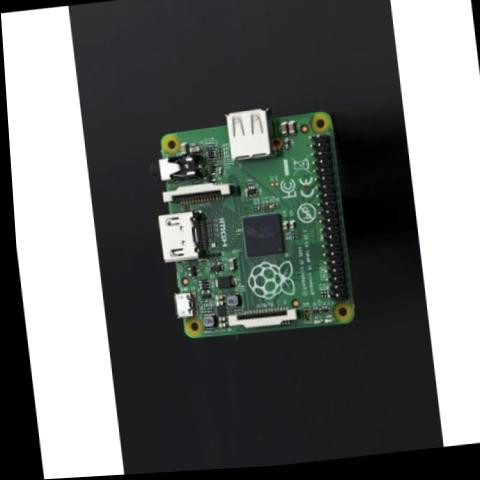Raspberry-Pi-1-Model-A-: (135, 96, 366, 361)
